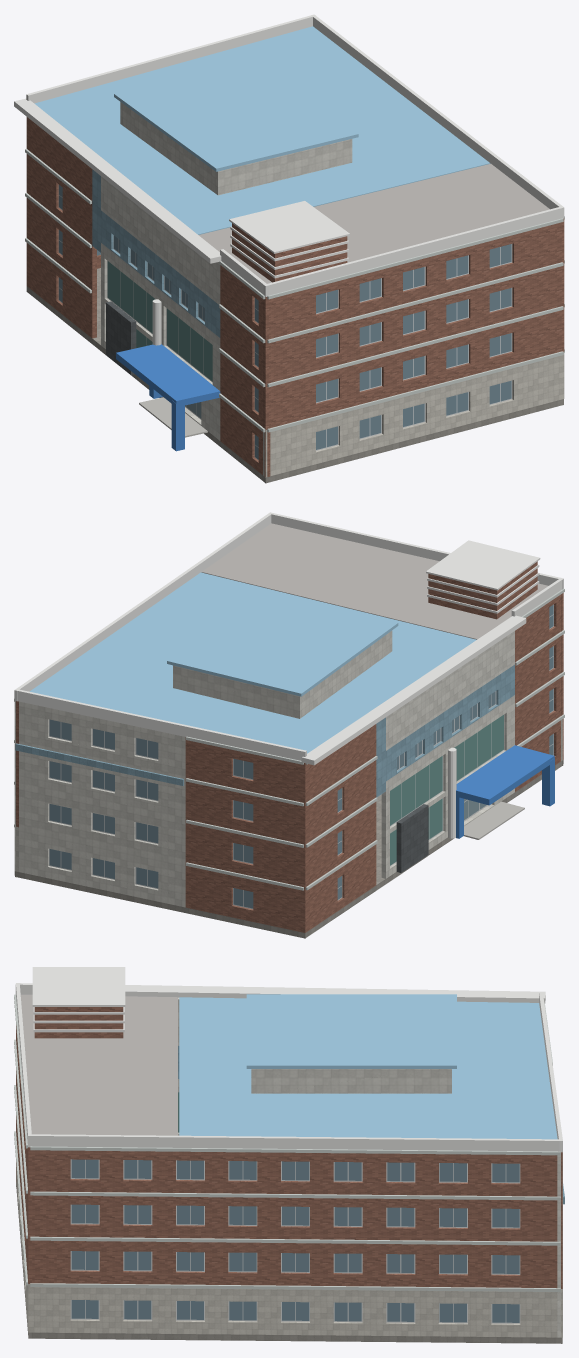
3 views of the same model, one above another, from view 1: azimuth 30°, elevation 25°; view 2: azimuth 150°, elevation 25°; view 3: azimuth 270°, elevation 25° (orthographic). The views are drawn at different scales.
Visible parts, largest first — view 1: bmec__brick, bmec__blueroof, bmec__cap, bmec__bmecwall, bmec__southroof, bmec__stone, bmec__glass, bmec__trim, bmec__bluepanel, bmec__bluecanopy, bmec__curtainglass, bmec__plinth (+5 smaller); view 2: bmec__blueroof, bmec__brick, bmec__bmecwall, bmec__cap, bmec__southroof, bmec__glass, bmec__bluepanel, bmec__curtainglass, bmec__trim, bmec__bluecanopy, bmec__plinth, bmec__frame (+5 smaller); view 3: bmec__brick, bmec__blueroof, bmec__stone, bmec__glass, bmec__southroof, bmec__cap, bmec__trim, bmec__bmecwall, bmec__frame, bmec__plinth, bmec__foundation, bmec__whitestripe.
Part boxes in pixels (left/top/right/bottom): bmec__brick: left=26, top=117, right=564, bottom=477; bmec__blueroof: left=34, top=26, right=490, bottom=234; bmec__cap: left=14, top=14, right=564, bottom=296; bmec__bmecwall: left=101, top=102, right=352, bottom=440; bmec__southroof: left=198, top=164, right=549, bottom=283; bmec__stone: left=263, top=351, right=564, bottom=477; bmec__glass: left=59, top=185, right=511, bottom=459; bmec__trim: left=25, top=149, right=564, bottom=432; bmec__bluepanel: left=92, top=169, right=220, bottom=337; bmec__bluecanopy: left=116, top=344, right=220, bottom=451; bmec__curtainglass: left=107, top=261, right=212, bottom=381; bmec__plinth: left=26, top=268, right=563, bottom=481; bmec__blueroof: left=30, top=572, right=476, bottom=753; bmec__brick: left=16, top=561, right=563, bottom=932; bmec__bmecwall: left=14, top=630, right=514, bottom=907; bmec__cap: left=14, top=512, right=563, bottom=765; bmec__southroof: left=201, top=523, right=548, bottom=639; bmec__glass: left=49, top=604, right=553, bottom=908; bmec__bluepanel: left=15, top=664, right=514, bottom=797; bmec__curtainglass: left=390, top=715, right=503, bottom=865; bmec__trim: left=14, top=588, right=564, bottom=890; bmec__bluecanopy: left=456, top=745, right=554, bottom=838; bmec__plinth: left=14, top=760, right=563, bottom=937; bmec__frame: left=49, top=604, right=553, bottom=909; bmec__brick: left=16, top=1007, right=562, bottom=1288; bmec__blueroof: left=179, top=994, right=557, bottom=1139; bmec__stone: left=16, top=1166, right=562, bottom=1337; bmec__glass: left=71, top=1159, right=519, bottom=1322; bmec__southroof: left=20, top=994, right=177, bottom=1135; bmec__cap: left=15, top=967, right=562, bottom=1152; bmec__trim: left=14, top=994, right=560, bottom=1291; bmec__bmecwall: left=178, top=997, right=562, bottom=1337; bmec__frame: left=70, top=1159, right=520, bottom=1323; bmec__plinth: left=16, top=1186, right=562, bottom=1342; bmec__foundation: left=16, top=1182, right=562, bottom=1343; bmec__whitestripe: left=33, top=1007, right=124, bottom=1032.
Bounding box in the file's own units: 30.56 × 18.13 × 39.81.
21 materials, 8 textured.
